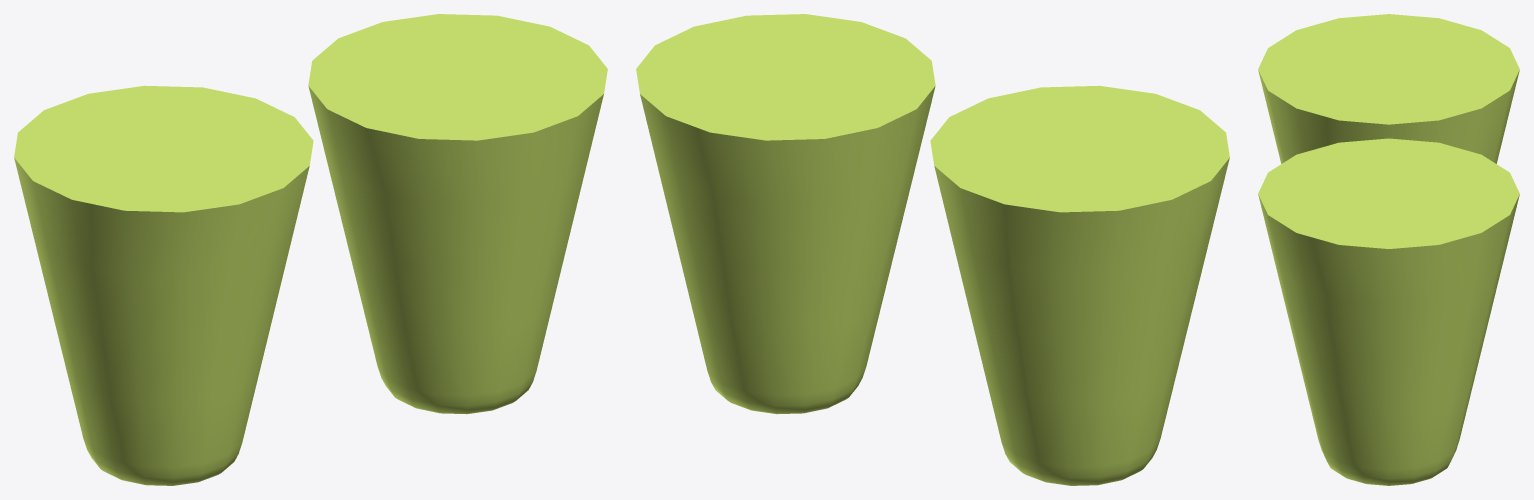
File: Legs3.glb
3 views of the same model, side by side, from view 1: azimuth 30°, elevation 25°; view 2: azimuth 150°, elevation 25°; view 3: azimuth 270°, elevation 25° (orthographic). The views are drawn at different scales.
Visible parts, largest first — view 1: Legs3; view 2: Legs3; view 3: Legs3.
Boxes of the visible parts, <box> form: Legs3: <box>14,14,607,485</box>; Legs3: <box>636,14,1229,485</box>; Legs3: <box>1258,14,1519,485</box>.
Bounding box in the file's own units: 170 × 90 × 80.
